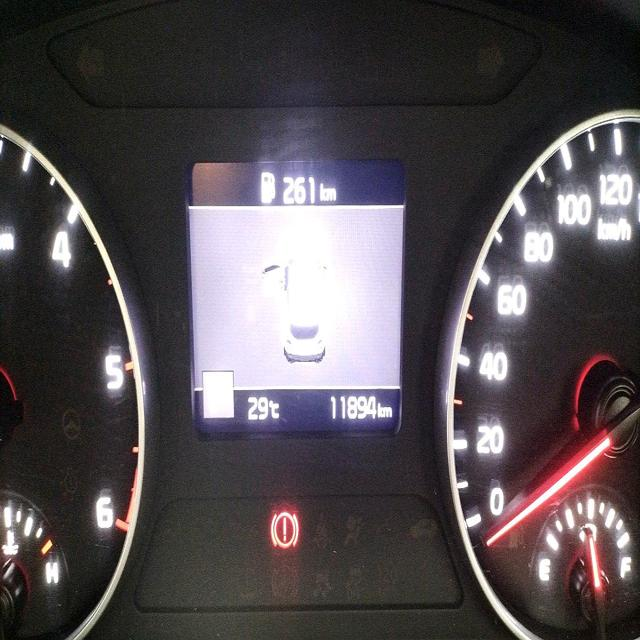odometer: (326, 387, 396, 432)
